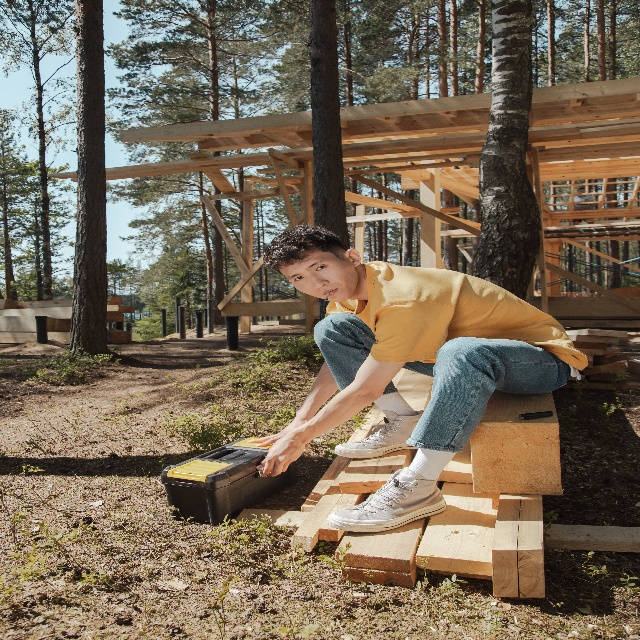Sin_guantes: (248, 415, 308, 454), (260, 427, 305, 476)
